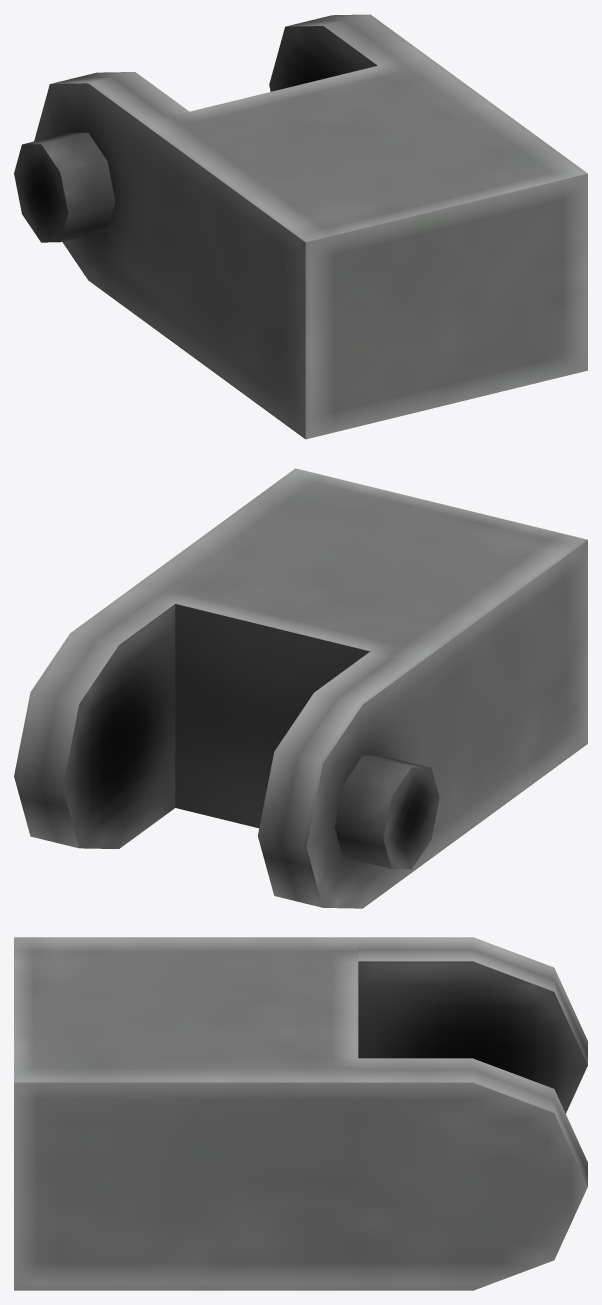
File: tv_cam_base.obj
3 views of the same model, one above another, from view 1: azimuth 30°, elevation 25°; view 2: azimuth 150°, elevation 25°; view 3: azimuth 270°, elevation 25° (orthographic). The views are drawn at different scales.
Parts seen in each view (by area): view 1: base2; view 2: base2; view 3: base2.
Boxes of the visible parts, <box> form: base2: <box>14,14,587,439</box>; base2: <box>14,468,587,908</box>; base2: <box>14,937,587,1290</box>.
Size of the model in its own units: 0.0875 by 0.05 by 0.125.
Materials: 1 (1 with a texture image).
